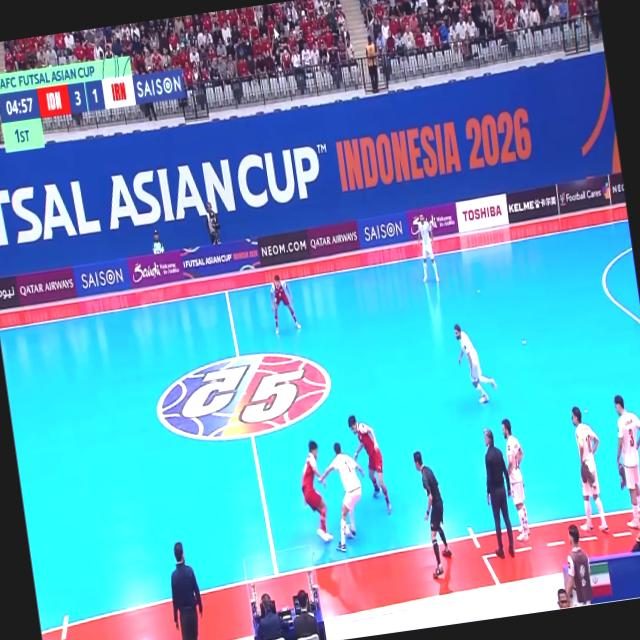official: (484, 429, 514, 558)
players: (321, 443, 364, 552), (572, 406, 608, 532), (348, 416, 391, 513), (502, 419, 529, 542), (455, 324, 497, 403), (615, 395, 639, 528), (302, 441, 332, 542), (413, 214, 439, 282), (271, 275, 300, 334)
referee: (414, 452, 451, 577), (171, 542, 203, 640)
